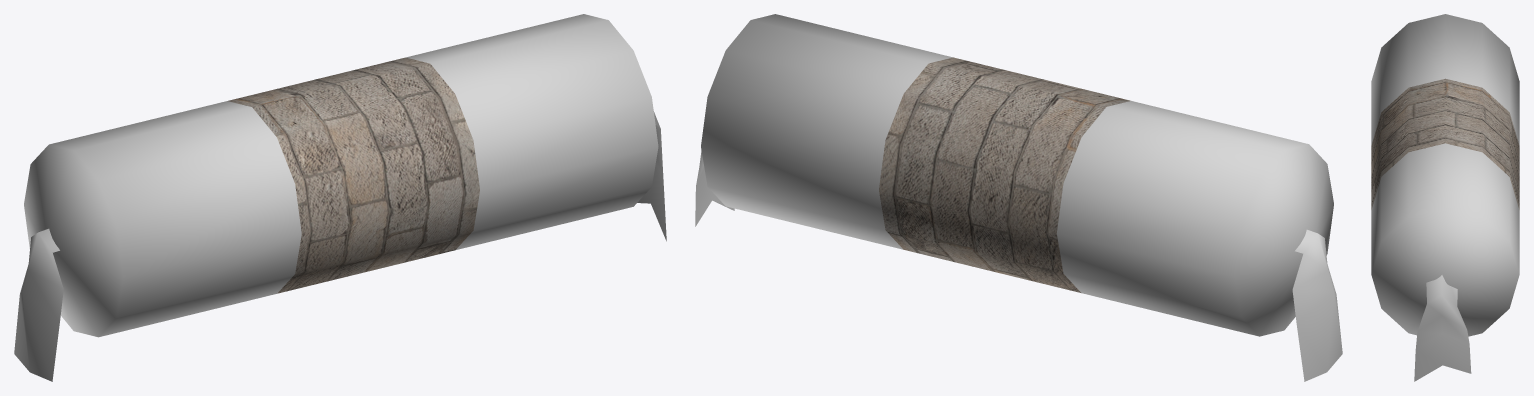
Rendered from Pillow_Cylinder_TasselsHanging.fbx.
3 views of the same model, side by side, from view 1: azimuth 30°, elevation 25°; view 2: azimuth 150°, elevation 25°; view 3: azimuth 270°, elevation 25° (orthographic). The views are drawn at different scales.
Visible parts, largest first — view 1: Pillow_Cylindrical; view 2: Pillow_Cylindrical; view 3: Pillow_Cylindrical.
Boxes of the visible parts, <box> form: Pillow_Cylindrical: <box>14,14,666,381</box>; Pillow_Cylindrical: <box>695,14,1342,381</box>; Pillow_Cylindrical: <box>1371,14,1519,381</box>.
Size of the model in its own units: 176 by 57.92 by 48.44.
